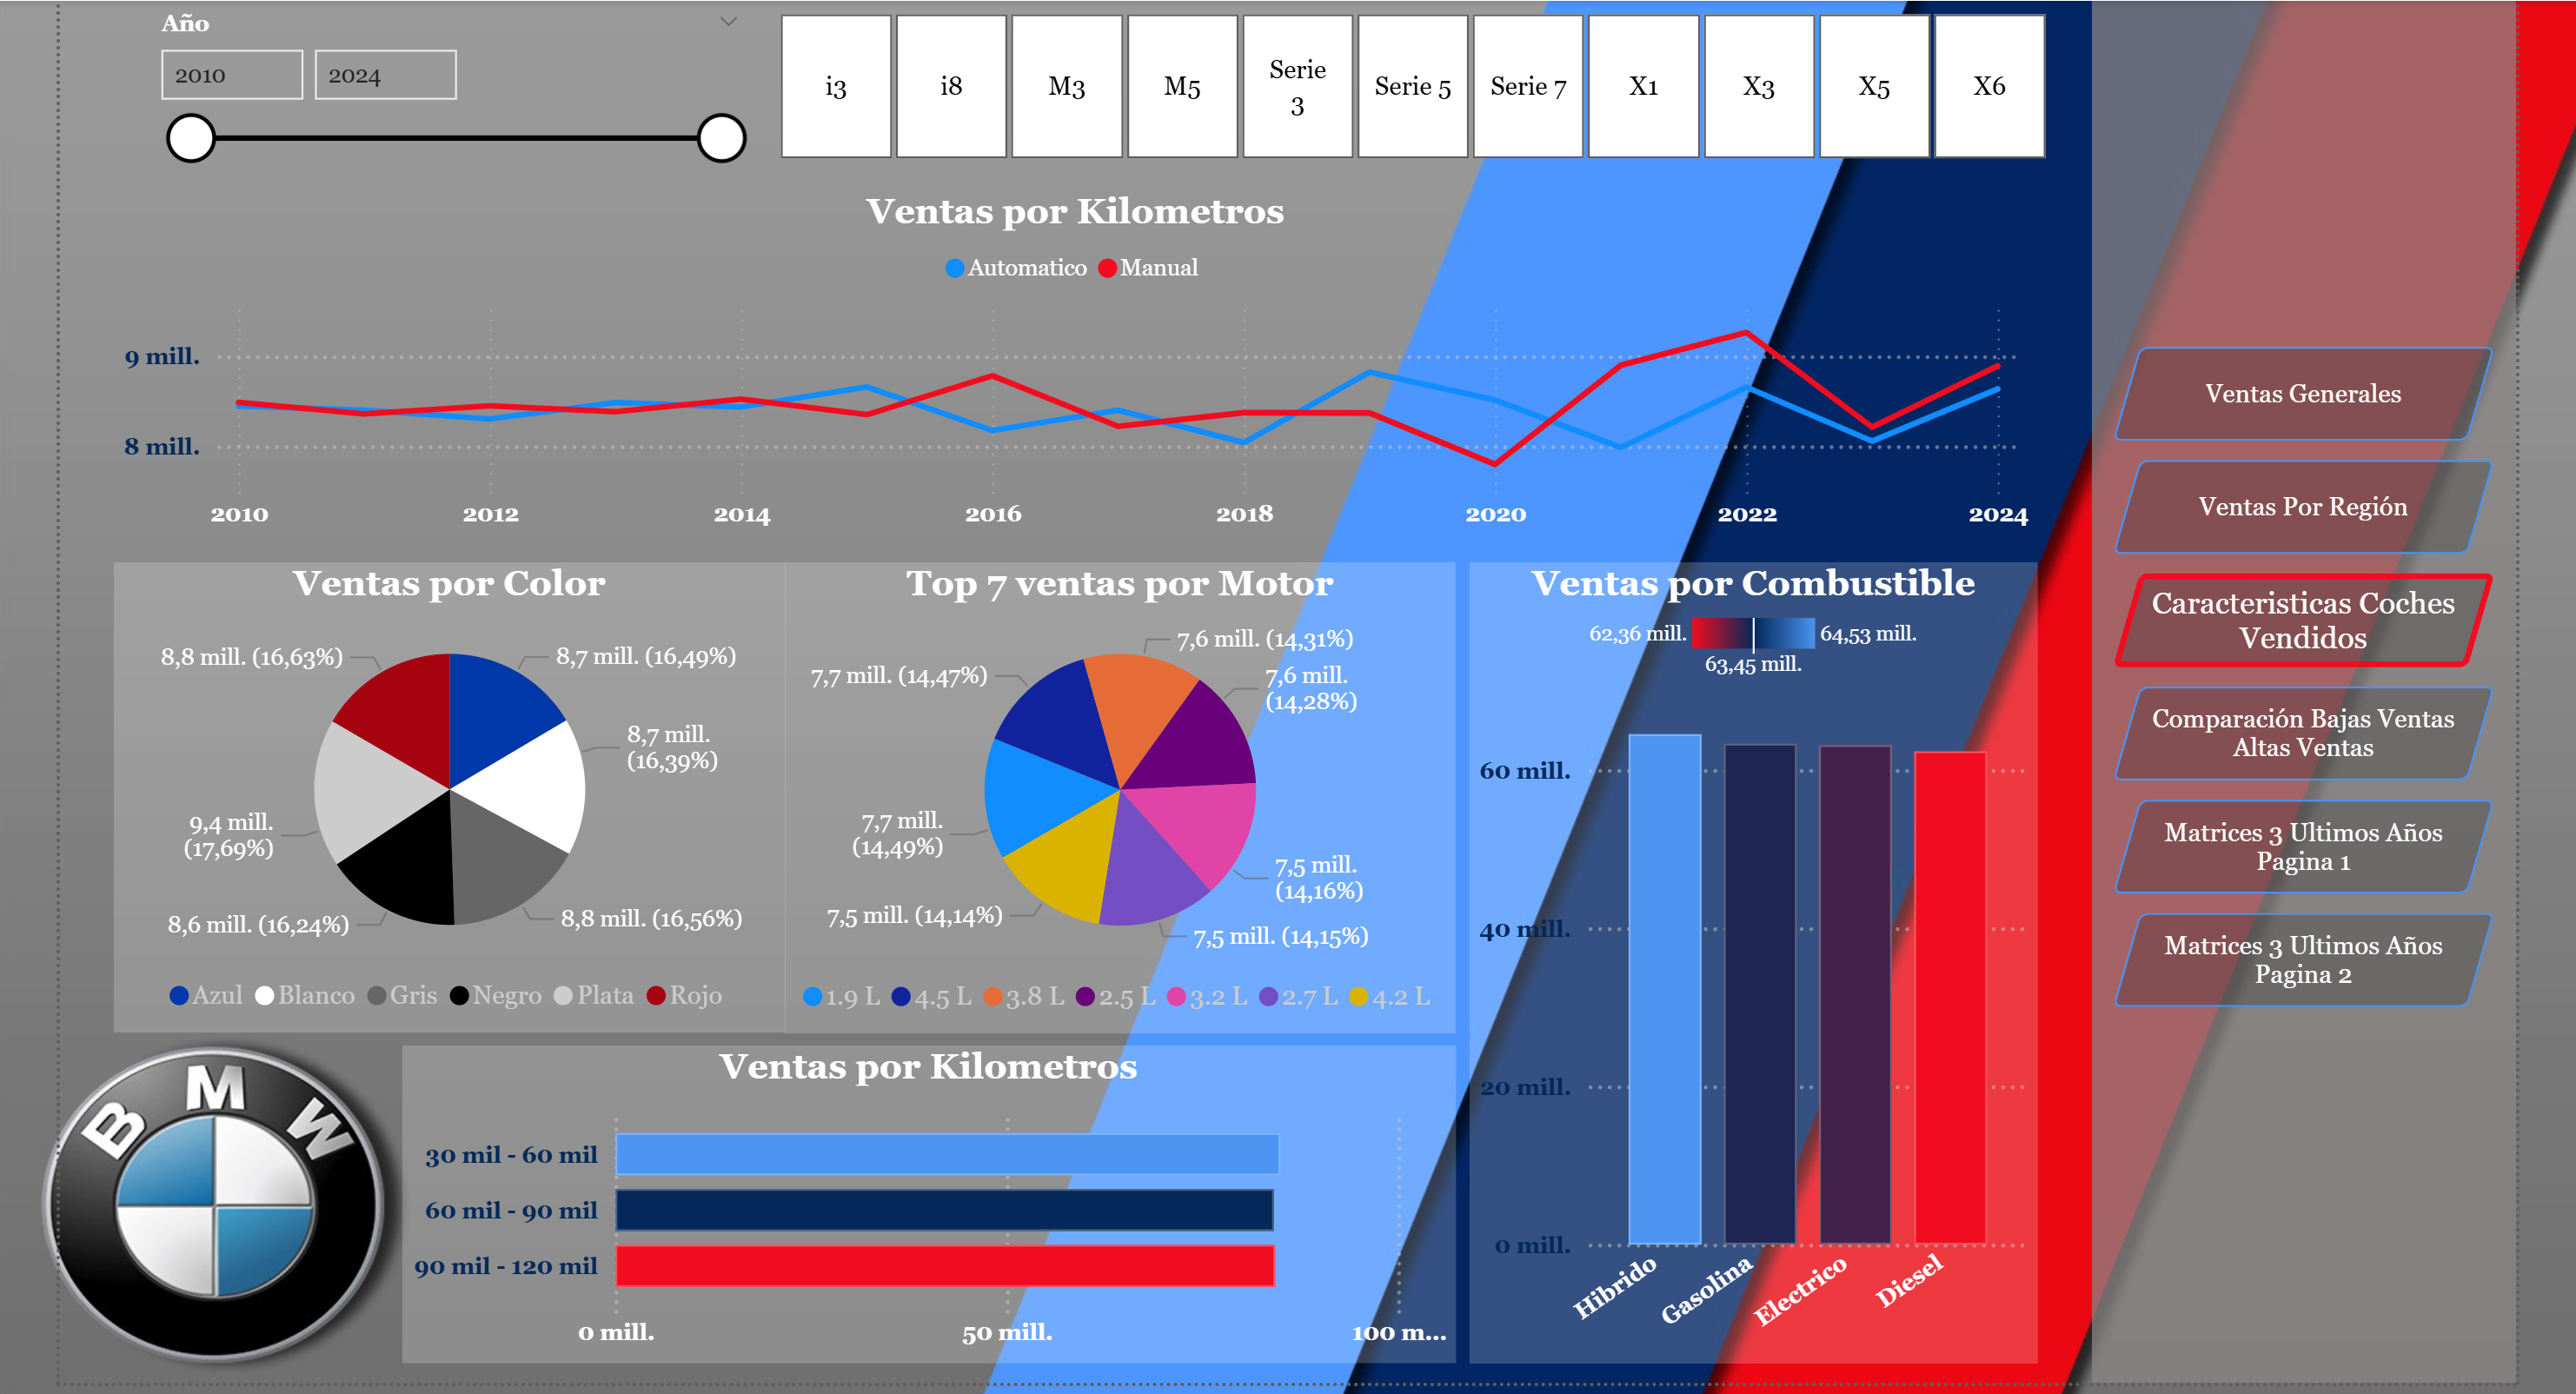

This screenshot's page, from the dashboard's own definition file:
{"tool":"powerbi","page":{"name":"Caracteristicas Coches Vendidos","canvas":[1280,720],"ordinal":2},"visuals":[{"type":"pieChart","title":"Top 7 ventas por Motor","fields":{"Category":["BMW sales data (2010-2024) (1).Tamaño_Motor"],"Y":["Sum(BMW sales data (2010-2024) (1).Volumen_Ventas)"]},"box":[377.7,292.5,349.6,245.4],"z":0},{"type":"pieChart","title":"Ventas por Color","fields":{"Y":["Sum(BMW sales data (2010-2024) (1).Volumen_Ventas)"],"Series":["BMW sales data (2010-2024) (1).Color"]},"box":[28.1,292.5,350,245],"z":1000},{"type":"textbox","box":[1058.7,0,221,720],"z":2000},{"type":"lineChart","title":"Ventas por Kilometros","fields":{"Category":["BMW sales data (2010-2024) (1).Año"],"Y":["Sum(BMW sales data (2010-2024) (1).Volumen_Ventas)"],"Series":["BMW sales data (2010-2024) (1).Transmision"]},"box":[28.1,98.7,1002.6,184.8],"z":3000},{"type":"slicer","fields":{"Values":["BMW sales data (2010-2024) (1).Modelo"]},"box":[349.6,0,709.1,88.8],"z":4000},{"type":"slicer","fields":{"Values":["BMW sales data (2010-2024) (1).Año"]},"box":[39.8,0,326,88.8],"z":5000},{"type":"clusteredColumnChart","title":"Ventas por Combustible","fields":{"Y":["Sum(BMW sales data (2010-2024) (1).Volumen_Ventas)"],"Category":["BMW sales data (2010-2024) (1).Combustible"]},"box":[734.5,292.5,296.2,417.5],"z":6000},{"type":"barChart","title":"Ventas por Kilometros","fields":{"Category":["BMW sales data (2010-2024) (1).RangoPrecio"],"Y":["Sum(BMW sales data (2010-2024) (1).Volumen_Ventas)"]},"box":[178.4,544.3,548.8,165.7],"z":7000},{"type":"pageNavigator","box":[1069.6,180.2,199.2,347.8],"z":8000}]}

Visuals, with their boxes on the page's 1280x720 design canvas (x1, y1, x2, y2). These are canvas units, not pixel positions in the 2576x1394 screenshot, which may show the page scaled, cropped or inside an application window:
"Top 7 ventas por Motor" pieChart: 378,292,727,538
"Ventas por Color" pieChart: 28,292,378,538
textbox: 1059,0,1280,720
"Ventas por Kilometros" lineChart: 28,99,1031,284
slicer - BMW sales data (2010-2024) (1).Modelo: 350,0,1059,89
slicer - BMW sales data (2010-2024) (1).Año: 40,0,366,89
"Ventas por Combustible" clusteredColumnChart: 734,292,1031,710
"Ventas por Kilometros" barChart: 178,544,727,710
pageNavigator: 1070,180,1269,528
